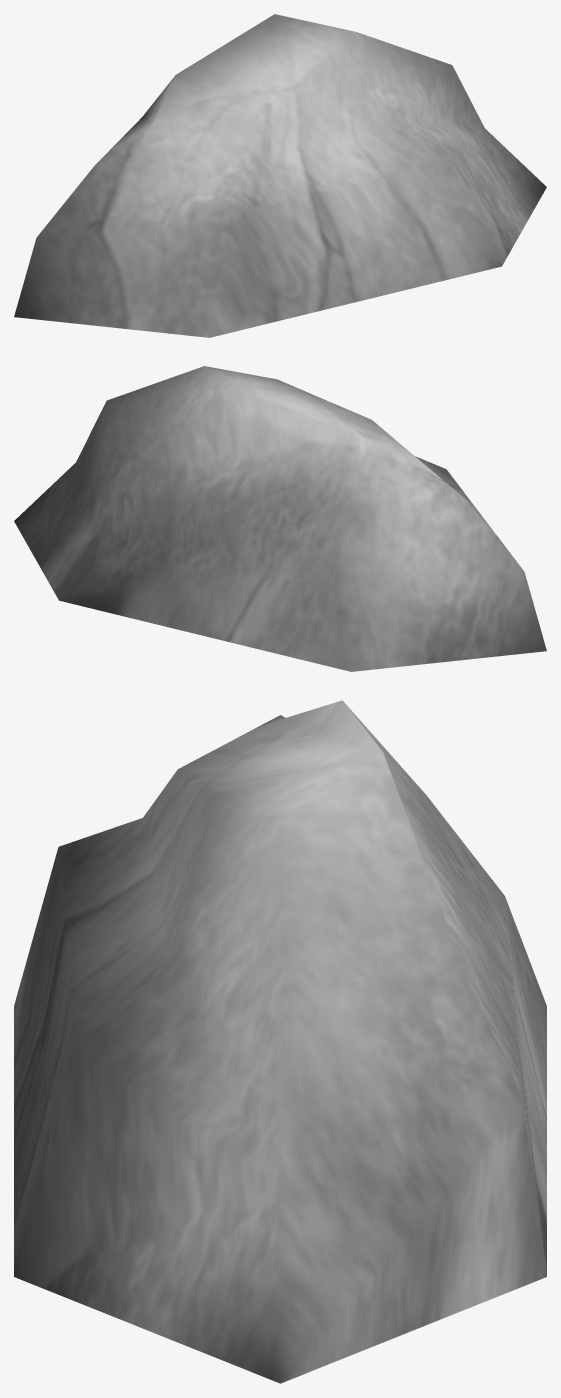
The model's file is iwa.fbx.
3 renders of one model, top to bottom at view 1: azimuth 30°, elevation 25°; view 2: azimuth 150°, elevation 25°; view 3: azimuth 270°, elevation 25°, orthographic. The views are drawn at different scales.
Visible parts, largest first — view 1: iwa1; view 2: iwa1; view 3: iwa1.
Part boxes in pixels (x1,y1,x2,y2): iwa1: [14, 14, 546, 337]; iwa1: [14, 366, 546, 671]; iwa1: [14, 700, 546, 1383].
Bounding box in the file's own units: 5.46 × 2.09 × 2.49.
Materials: 1 (1 with a texture image).
